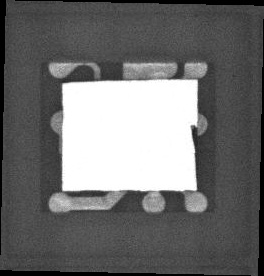DIE_BROKEN: (188, 123, 198, 157)
